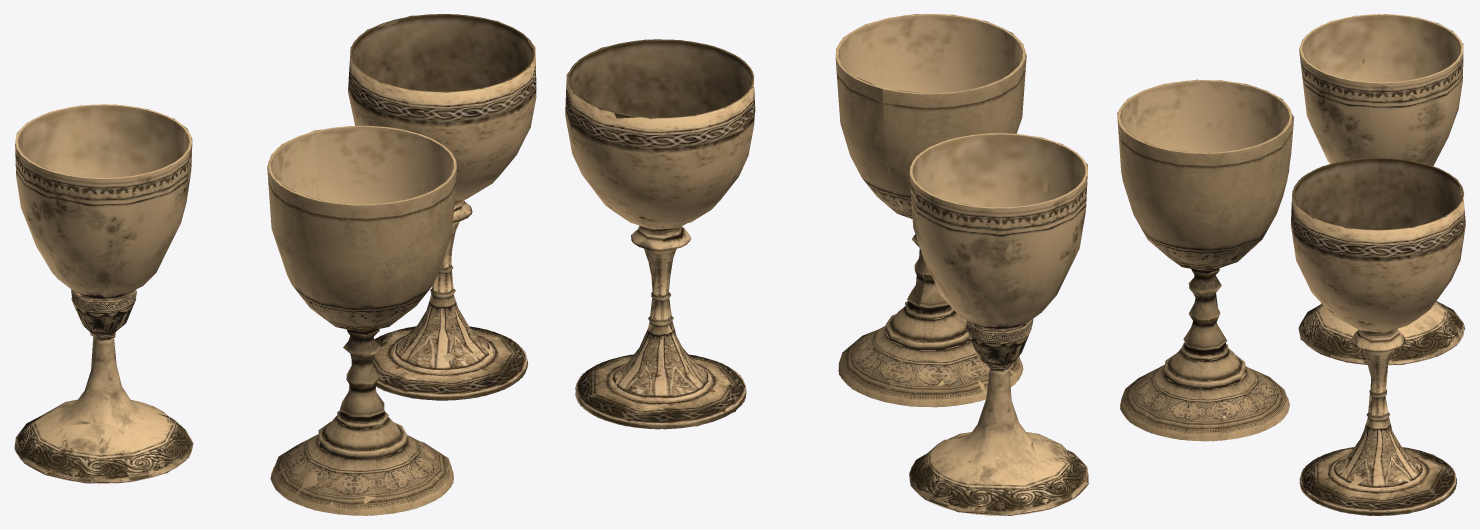
File: goblets.glb
The picture shows the model from 3 angles, left to right: view 1: azimuth 30°, elevation 25°; view 2: azimuth 150°, elevation 25°; view 3: azimuth 270°, elevation 25°; orthographic projection. The views are drawn at different scales.
Parts seen in each view (by area): view 1: brass_goblet_01, brass_goblet_02, brass_goblet_03; view 2: brass_goblet_02, brass_goblet_03, brass_goblet_01; view 3: brass_goblet_01, brass_goblet_03, brass_goblet_02.
Part boxes in pixels (left/top/right/bottom): brass_goblet_01: left=267, top=125, right=456, bottom=515; brass_goblet_02: left=14, top=104, right=193, bottom=483; brass_goblet_03: left=348, top=14, right=536, bottom=400; brass_goblet_02: left=909, top=133, right=1088, bottom=515; brass_goblet_03: left=565, top=39, right=755, bottom=429; brass_goblet_01: left=835, top=14, right=1026, bottom=407; brass_goblet_01: left=1117, top=79, right=1294, bottom=441; brass_goblet_03: left=1290, top=157, right=1465, bottom=515; brass_goblet_02: left=1298, top=14, right=1465, bottom=365.
Bounding box in the file's own units: 0.4539 × 0.2734 × 0.298.
3 materials, 3 textured.
